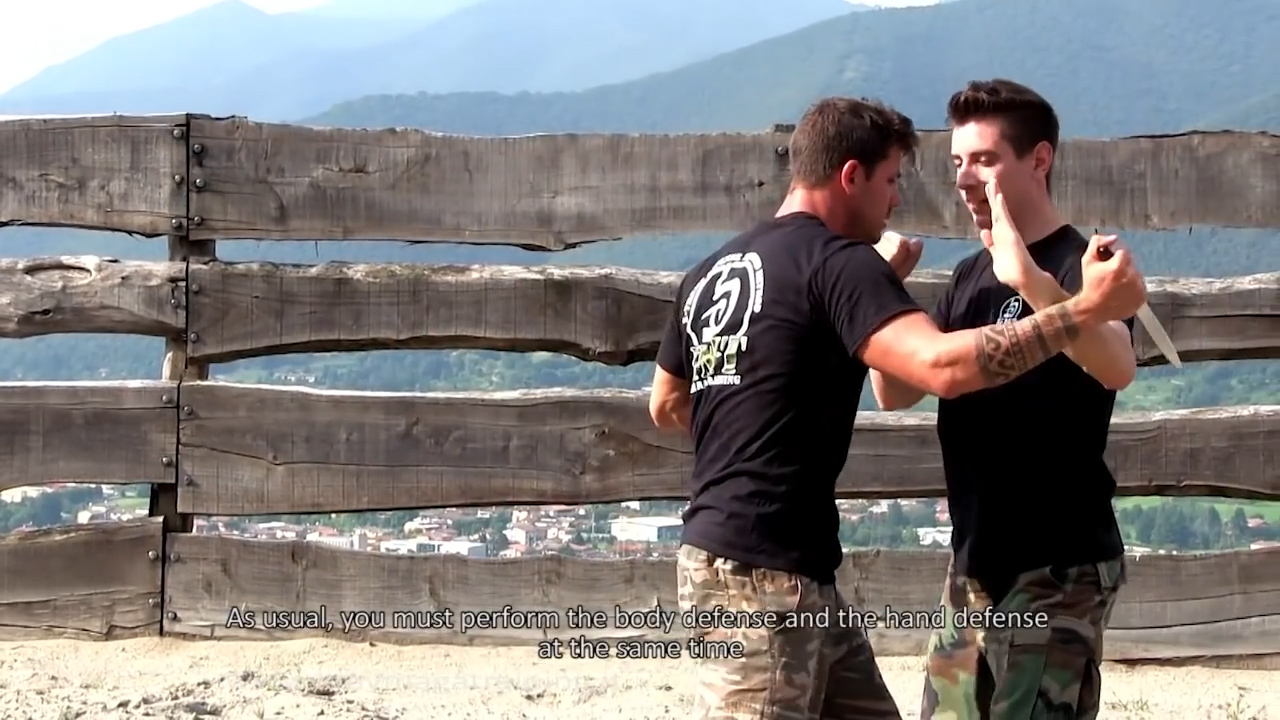knife: (1081, 230, 1189, 375)
